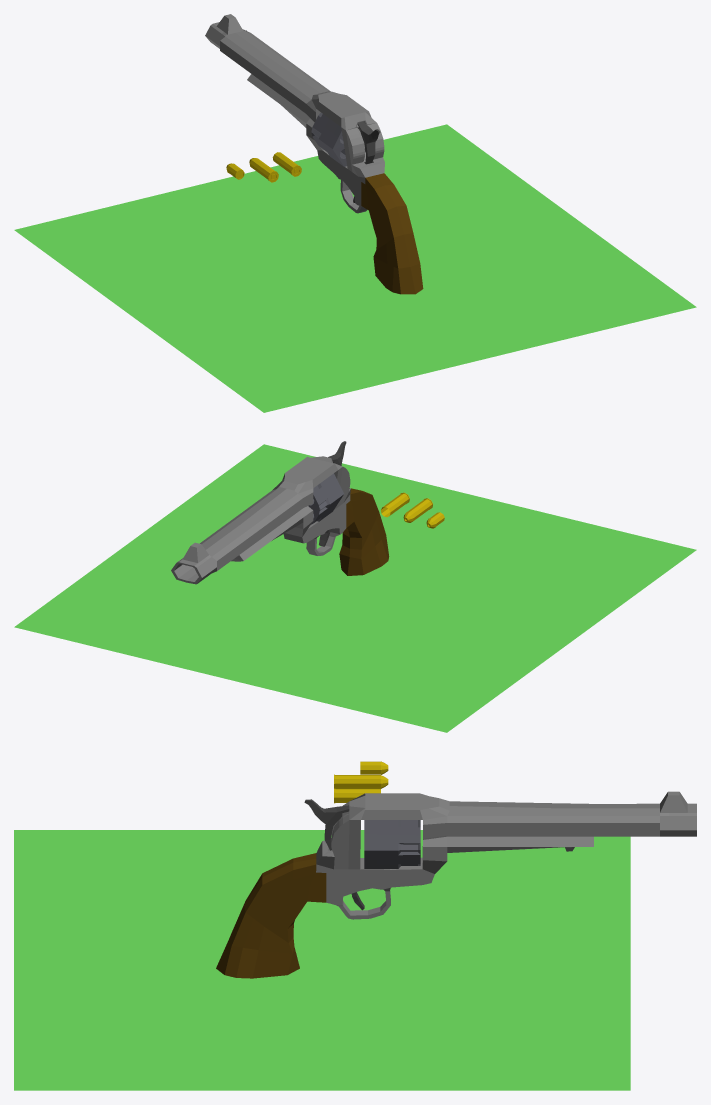
The model's file is pistola20.fbx.
3 views of the same model, one above another, from view 1: azimuth 30°, elevation 25°; view 2: azimuth 150°, elevation 25°; view 3: azimuth 270°, elevation 25° (orthographic). The views are drawn at different scales.
Parts seen in each view (by area): view 1: Plane.002, body, drum; view 2: Plane.002, body, drum; view 3: Plane.002, body, drum, bolt, ammunition1.
Part boxes in pixels (box(x1,y1,x2,y2)): Plane.002: box(14, 124, 696, 412); body: box(205, 14, 423, 294); drum: box(311, 112, 346, 166); Plane.002: box(14, 444, 696, 732); body: box(171, 456, 389, 584); drum: box(308, 473, 343, 524); Plane.002: box(14, 830, 630, 1090); body: box(216, 791, 696, 978); drum: box(364, 820, 420, 868); bolt: box(304, 799, 349, 850); ammunition1: box(334, 774, 388, 788).
Bounding box in the file's own units: 1219 × 386 × 1350.
